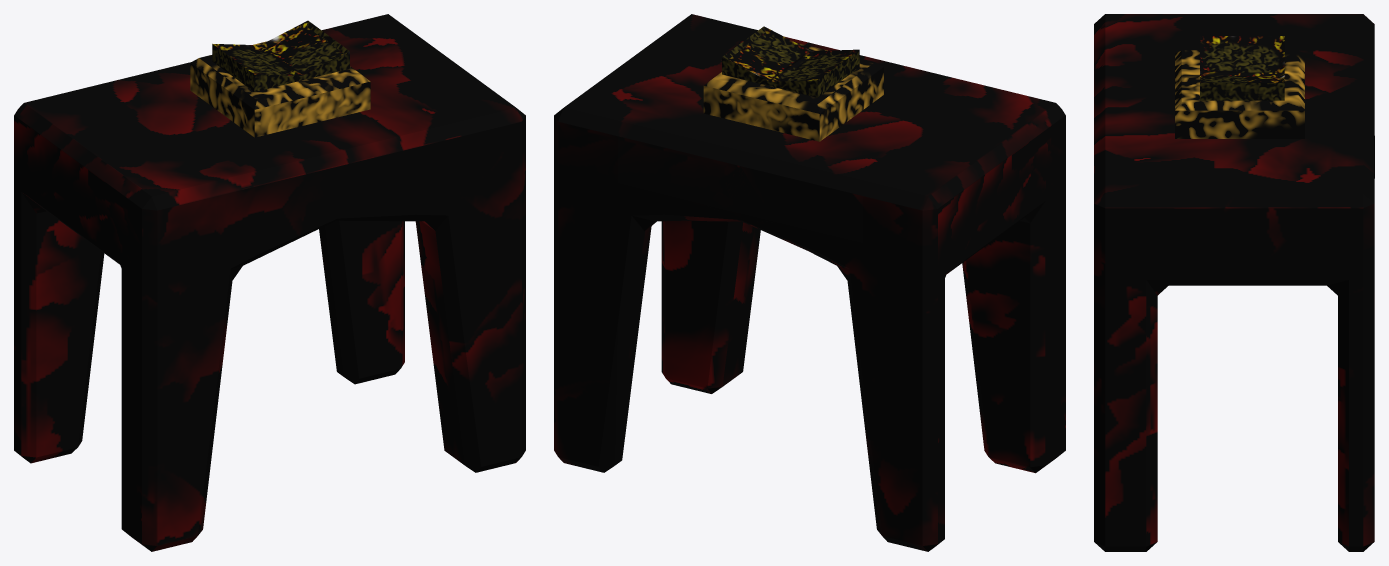
The model's file is Bench.glb.
3 renders of one model, left to right at view 1: azimuth 30°, elevation 25°; view 2: azimuth 150°, elevation 25°; view 3: azimuth 270°, elevation 25°, orthographic.
Visible parts, largest first — view 1: Tabel, Book_1, Book; view 2: Tabel, Book_1, Book; view 3: Tabel, Book_1, Book.
Part boxes in pixels (x1,y1,x2,y2): Tabel: (14,14,525,551); Book_1: (190,41,370,137); Book: (212,20,349,91); Tabel: (554,14,1065,551); Book_1: (703,43,883,141); Book: (722,26,859,97); Tabel: (1094,14,1374,551); Book_1: (1175,50,1304,138); Book: (1200,36,1284,100).
Bounding box in the file's own units: 1.2 × 1.22 × 0.7559.
3 materials, 3 textured.
